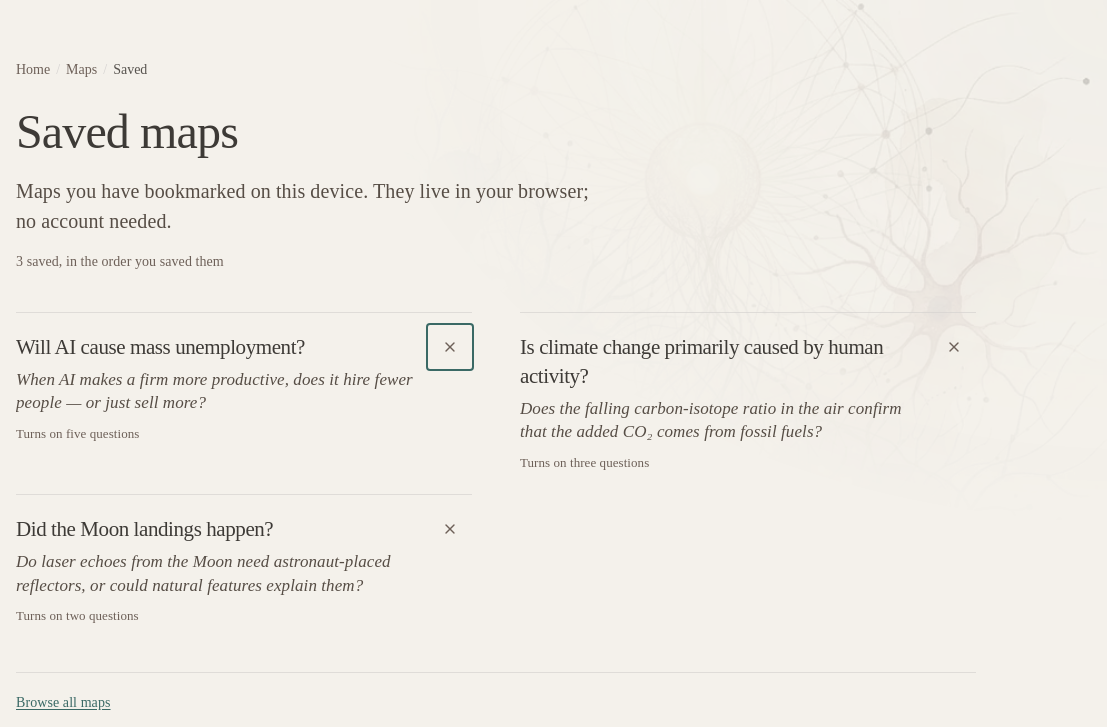
Test case: SavedClient keyboard removal › moves focus after removing saved map 0
The image size is (1107, 727).
Click the button named "from saved".
click(450, 347)  # box [428,325,472,369]
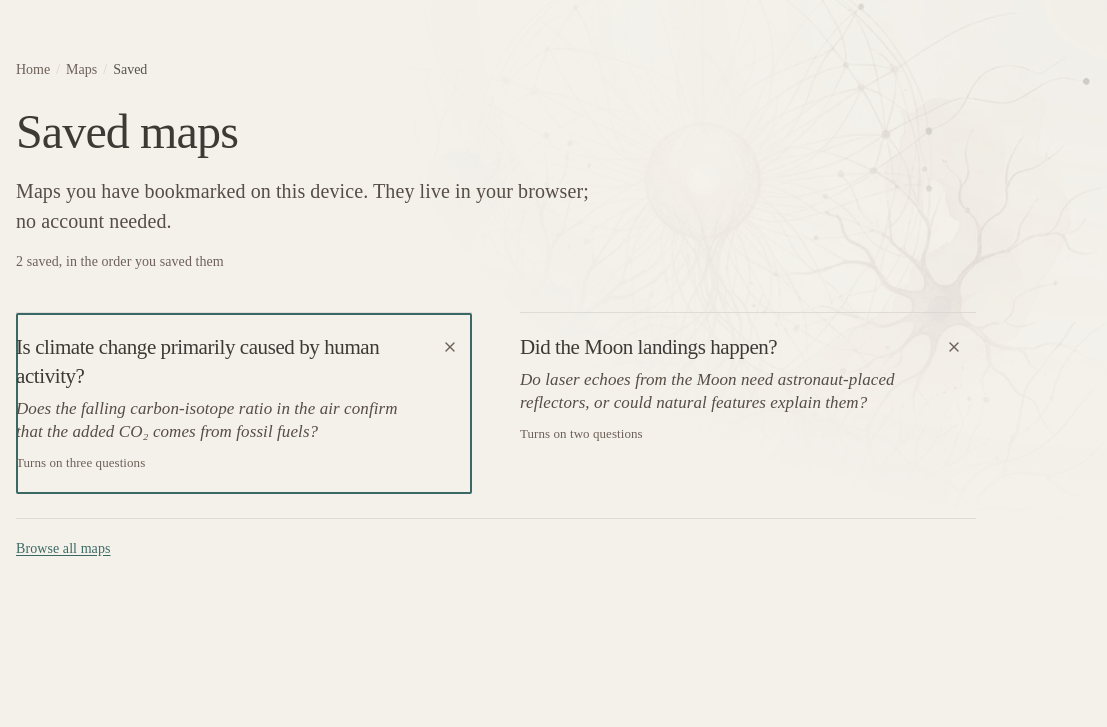
Expected: the number of buttons named "from saved" is 2, [428,325,472,369]; [932,325,976,369]
